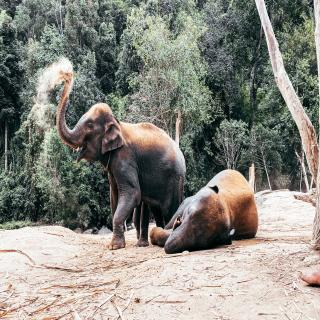Elephant: (55, 61, 186, 257), (149, 164, 262, 262)
